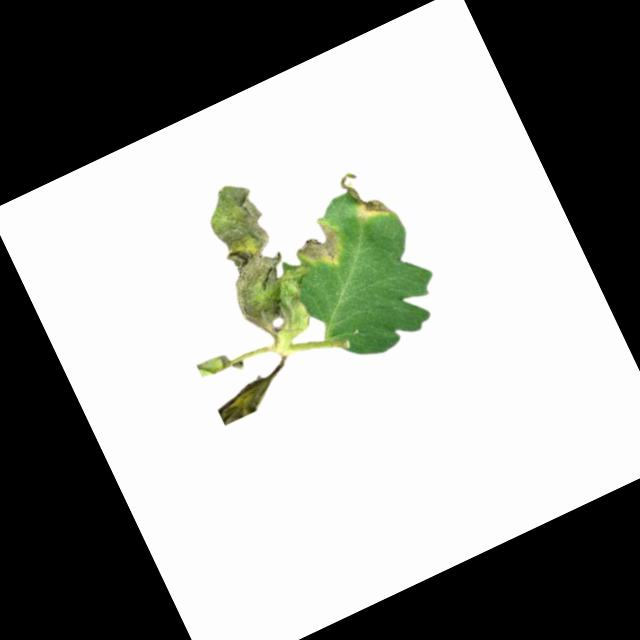Late_blight: (186, 169, 330, 355), (336, 160, 394, 230), (292, 216, 349, 277)
